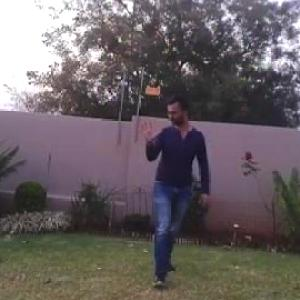follow_hand: (133, 115, 157, 144)
